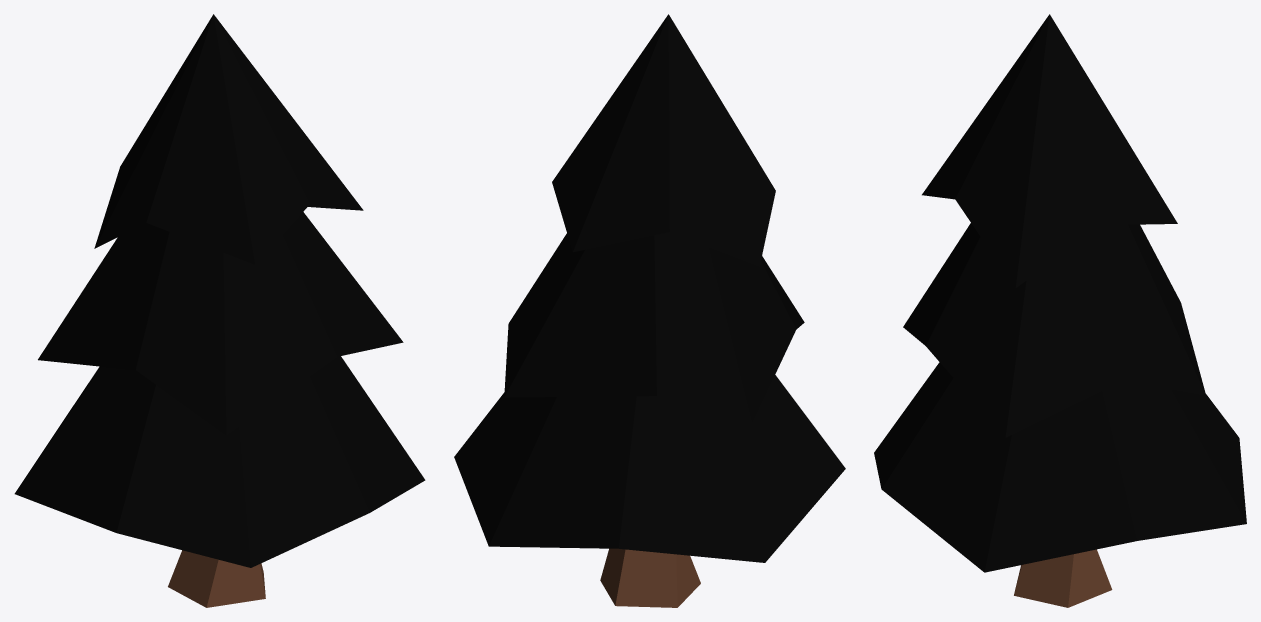
Rendered from Tree_Small.fbx.
3 views of the same model, side by side, from view 1: azimuth 30°, elevation 25°; view 2: azimuth 150°, elevation 25°; view 3: azimuth 270°, elevation 25° (orthographic). The views are drawn at different scales.
Visible parts, largest first — view 1: Tree_Small; view 2: Tree_Small; view 3: Tree_Small.
Boxes of the visible parts, x1,y1,x2,y2 form: Tree_Small: [14, 14, 425, 607]; Tree_Small: [454, 14, 845, 607]; Tree_Small: [874, 14, 1246, 607].
Bounding box in the file's own units: 0.6103 × 1.03 × 0.618.
